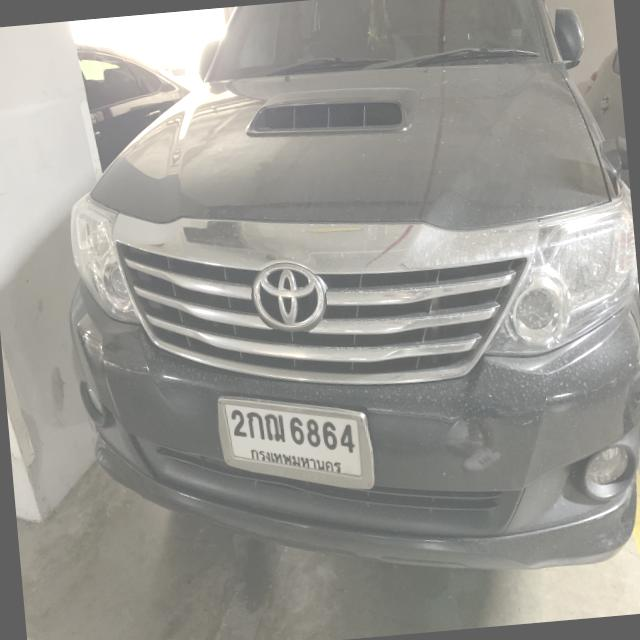license_plate: (214, 380, 377, 503)
